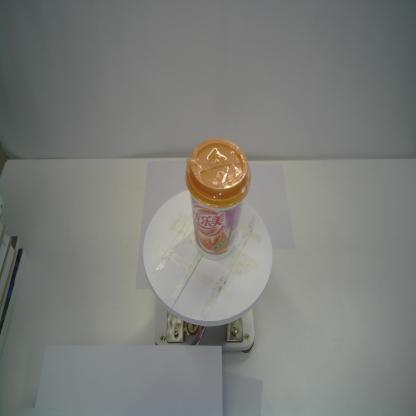Instant Drink: (184, 136, 252, 262)
